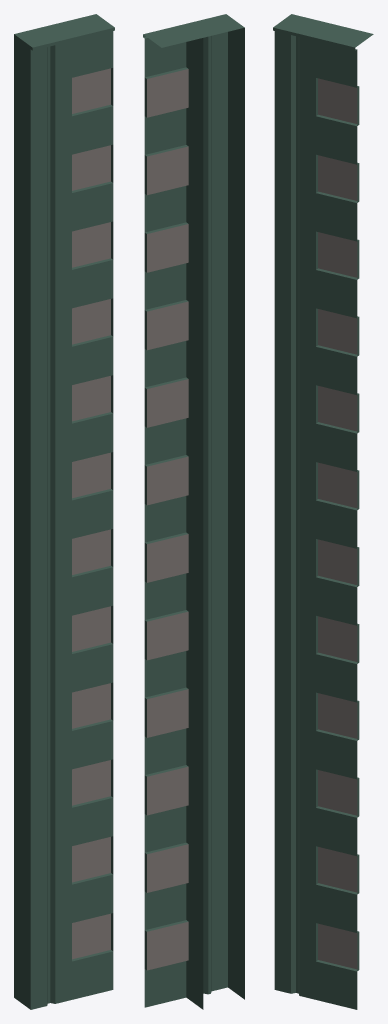
3 views of the same model, side by side, from view 1: azimuth 30°, elevation 25°; view 2: azimuth 210°, elevation 25°; view 3: azimuth 330°, elevation 25° (orthographic).
Parts seen in each view (by area): view 1: Column.027; view 2: Column.027; view 3: Column.027.
Boxes of the visible parts, bbox=[...] form: Column.027: bbox=[14, 14, 114, 1009]; Column.027: bbox=[143, 14, 244, 1009]; Column.027: bbox=[273, 14, 373, 1009].
Size of the model in its own units: 557 by 6223 by 217.
